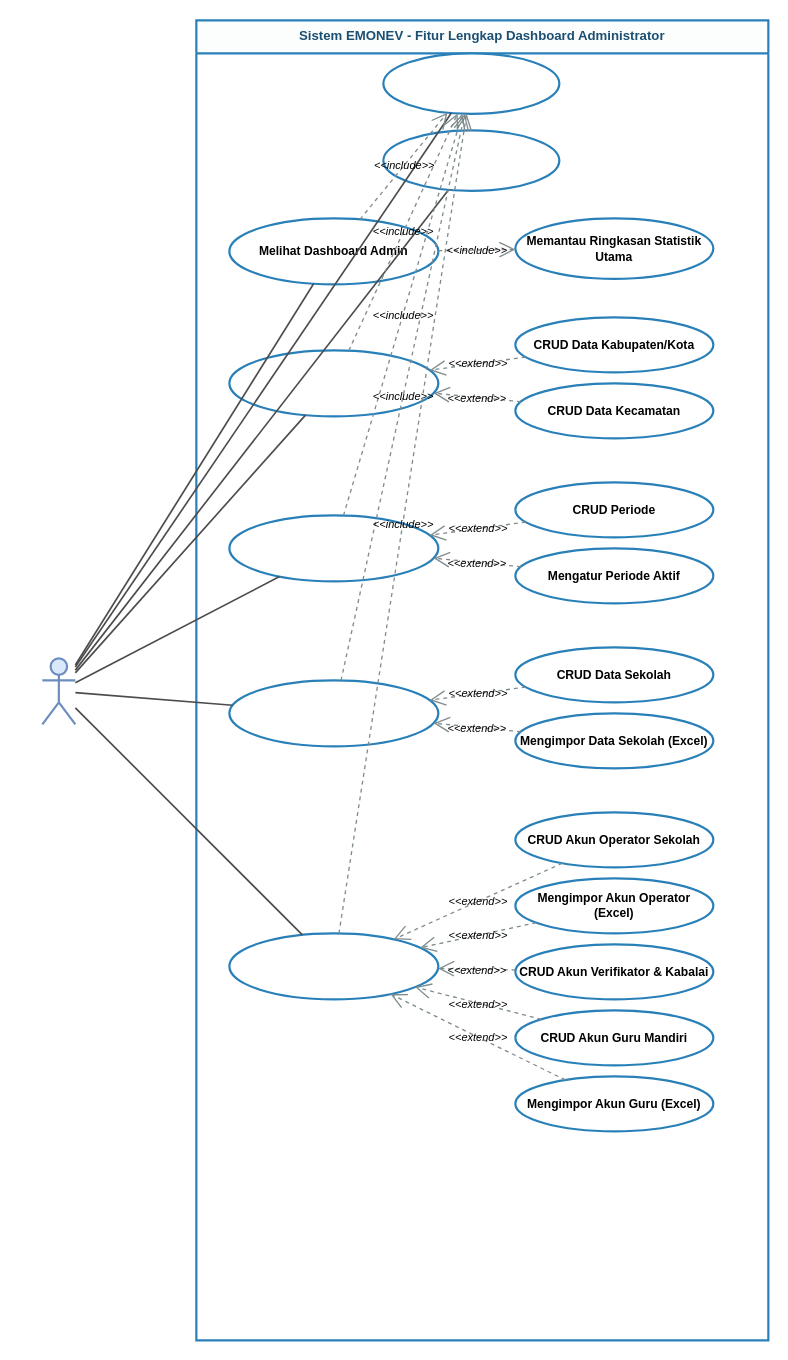
The diagram is 788 pixels wide and 1360 high, and some of its shapes have lost their labels. The centre of each missing label's shape, as x and y in pixels:
Administrator: the point at 58,691
Login ke Sistem: the point at 471,83
Logout dari Sistem: the point at 471,160
Mengelola Data Sekolah: the point at 333,713
Mengelola Data Wilayah: the point at 333,383
Mengelola Pengguna Sistem: the point at 333,966
Mengelola Periode Aktif: the point at 333,548
